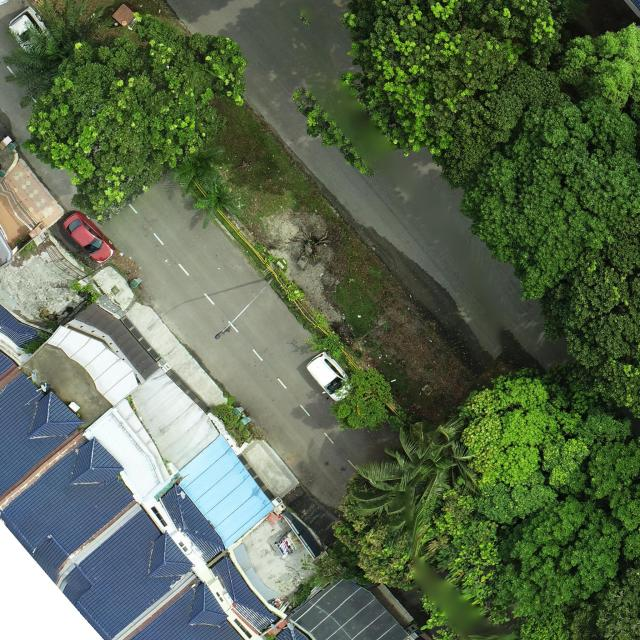Tree: (20, 11, 246, 220), (341, 0, 575, 190), (459, 93, 640, 300), (456, 354, 634, 526), (349, 418, 480, 556), (538, 212, 640, 366), (496, 492, 623, 608), (2, 0, 117, 110), (554, 20, 640, 104), (329, 366, 394, 433), (172, 142, 226, 198), (194, 175, 244, 230)
